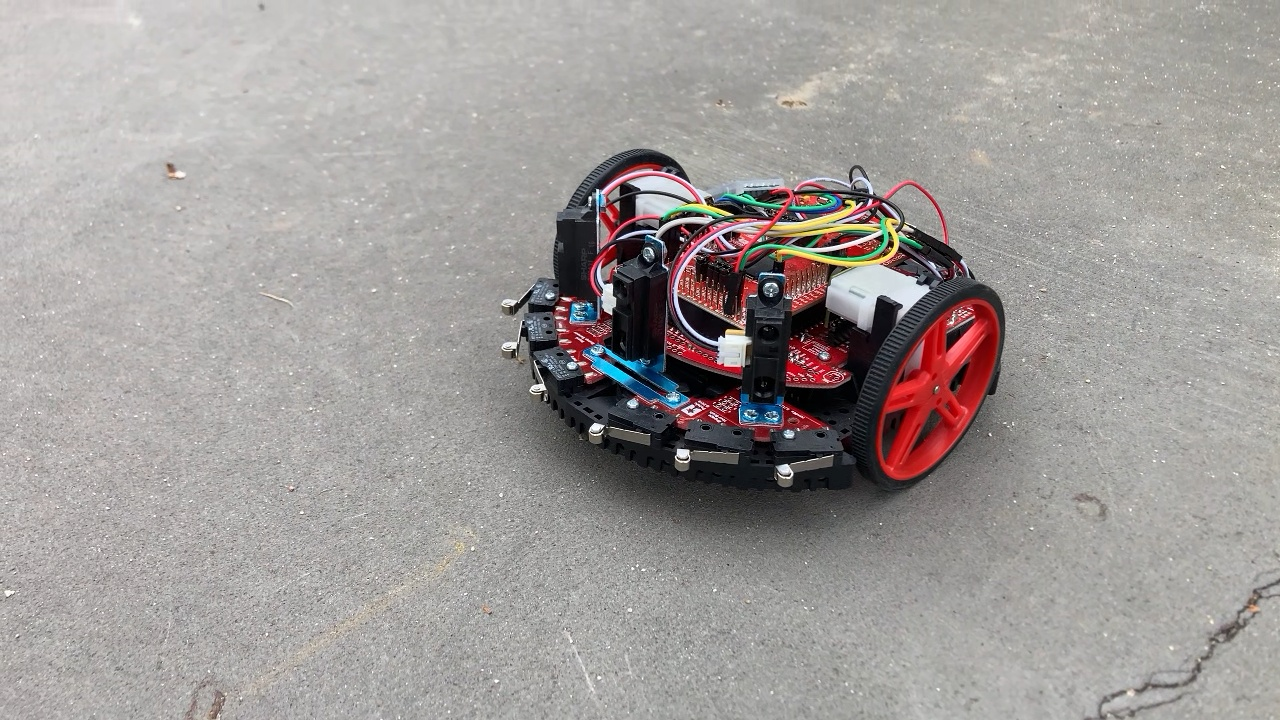robot: (493, 143, 1012, 504)
